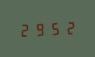five: (46, 20, 59, 36)
nine: (32, 20, 45, 37)
two: (18, 21, 31, 37), (60, 19, 73, 35)
